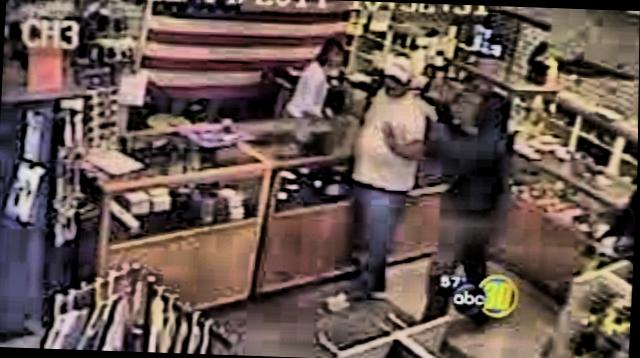pistol: (415, 88, 460, 126)
